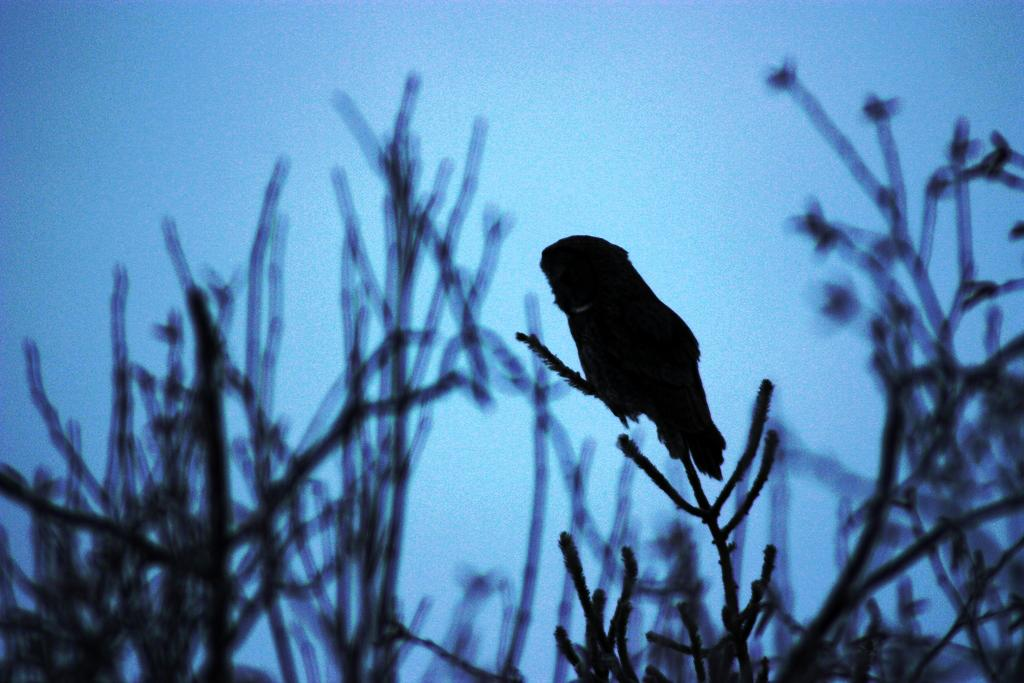Owl: (534, 234, 743, 481)
